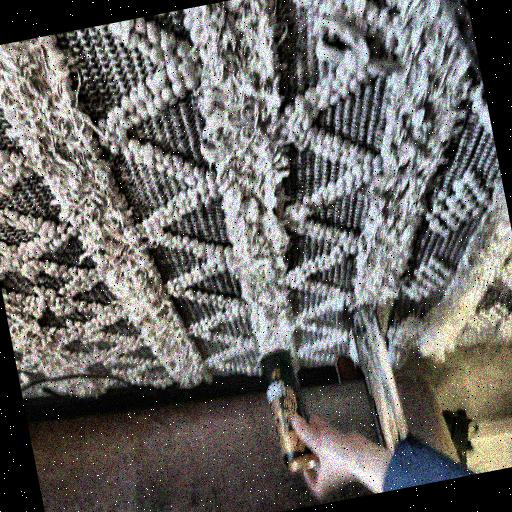karhu: (260, 352, 319, 476)
